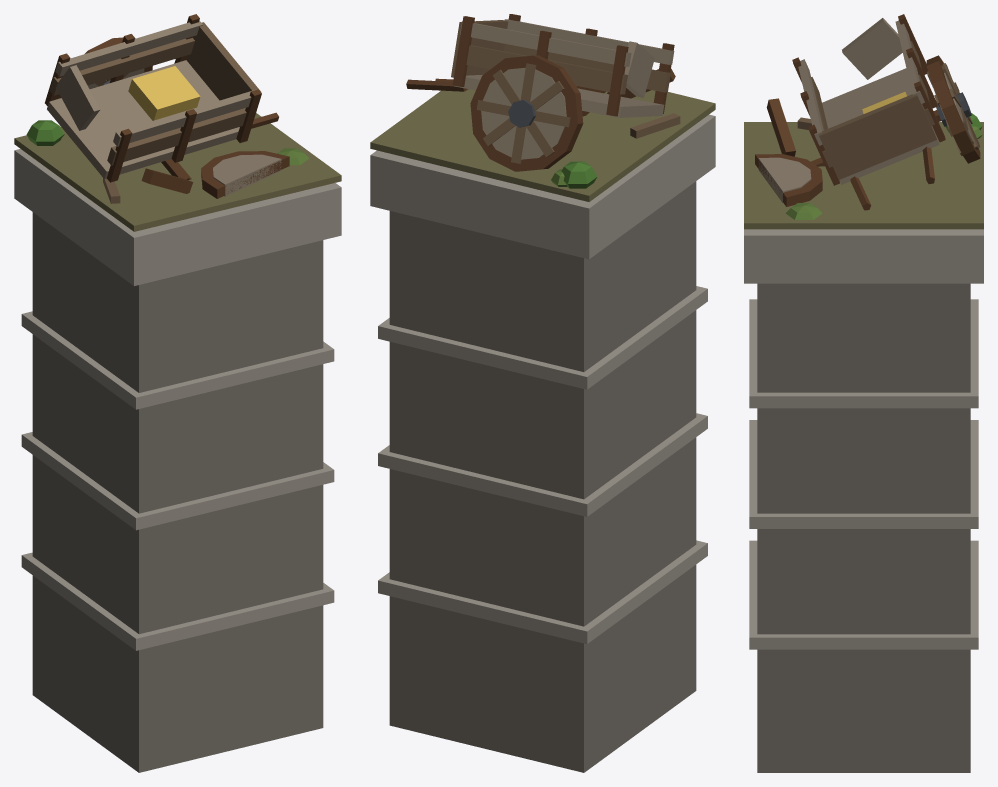
The model's file is decor_wrecked_cart.glb.
3 renders of one model, left to right at view 1: azimuth 30°, elevation 25°; view 2: azimuth 150°, elevation 25°; view 3: azimuth 270°, elevation 25°, orthographic. The views are drawn at different scales.
Parts seen in each view (by area): view 1: decor_wrecked_cart; view 2: decor_wrecked_cart; view 3: decor_wrecked_cart.
Boxes of the visible parts, box(x1,y1,x2,y2) form: decor_wrecked_cart: box(14, 14, 341, 772); decor_wrecked_cart: box(370, 14, 715, 772); decor_wrecked_cart: box(744, 14, 983, 772).
Bounding box in the file's own units: 1.8 × 5.52 × 1.8.
